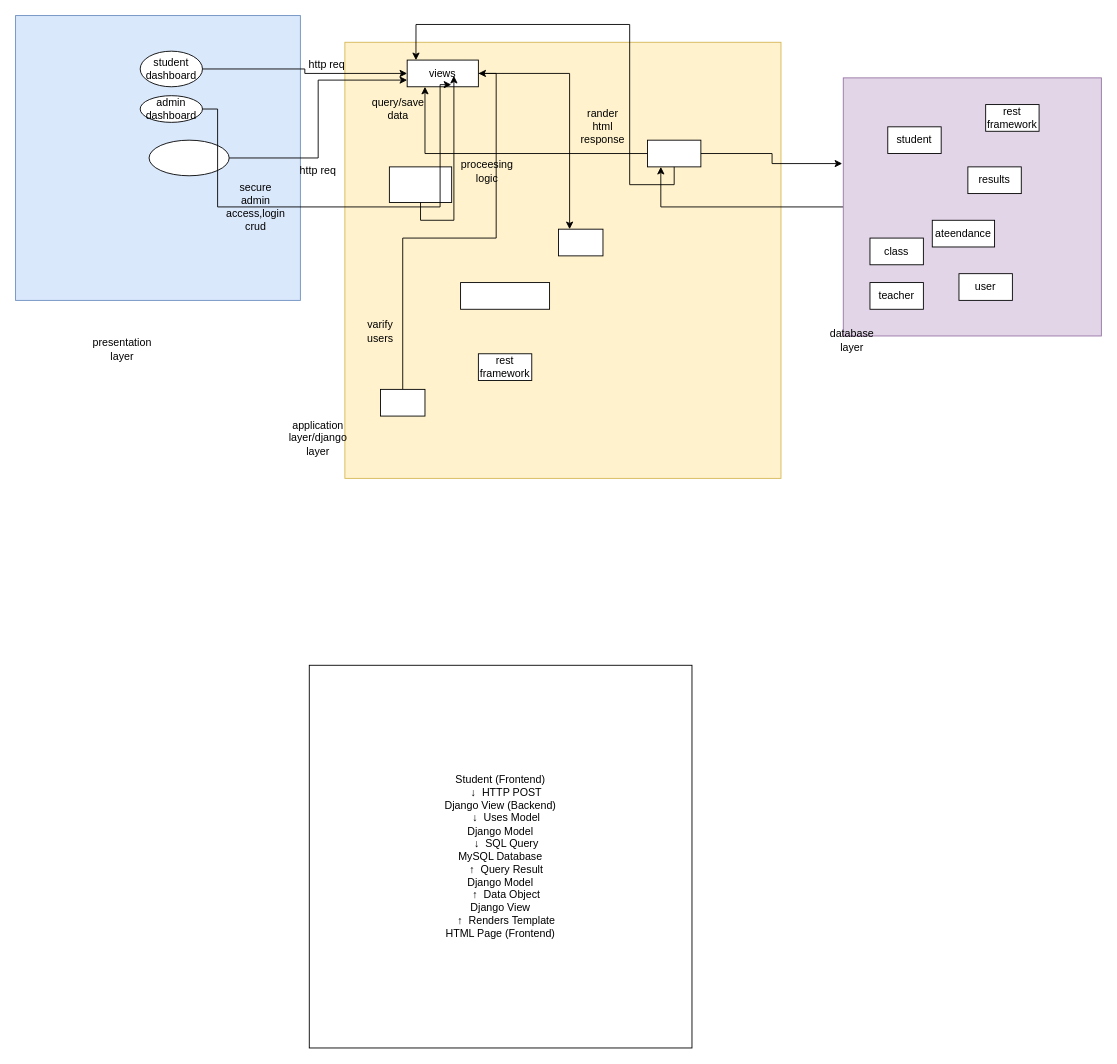
This 1117x1064 diagram has some shape labels left out. Here are the shapes that lost their labels. From the top down, the box of each, then its label:
(148, 139, 229, 176): teacher dashboard
(647, 139, 701, 167): model
(388, 166, 452, 202): business logic
(558, 228, 603, 256): template
(460, 282, 550, 309): django admin interface
(380, 388, 425, 416): auth system
